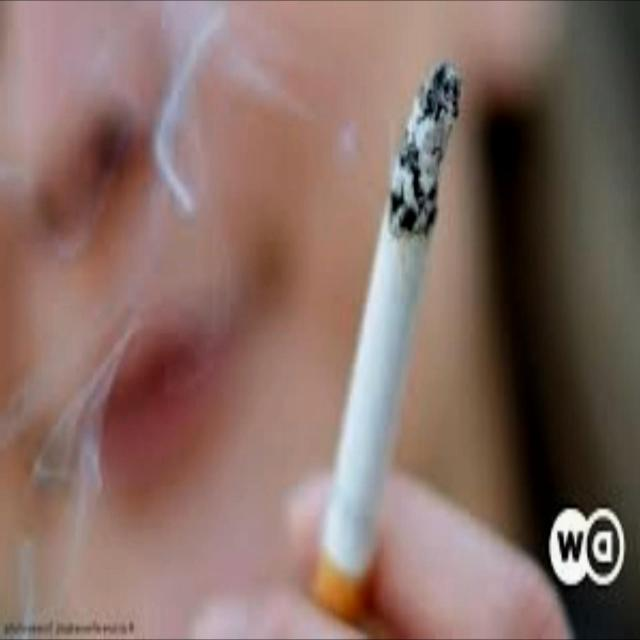smoke: (257, 53, 472, 639)
